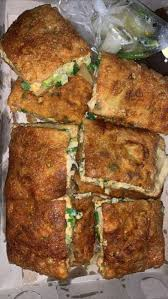Martabak telur: (2, 3, 92, 97), (79, 117, 165, 197), (89, 50, 168, 133), (1, 120, 82, 199), (92, 199, 168, 280), (4, 198, 76, 279)
